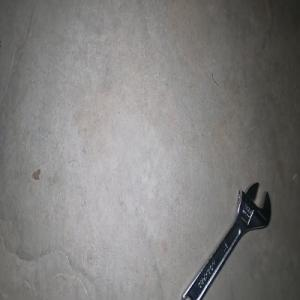Wrench: (180, 181, 270, 300)
